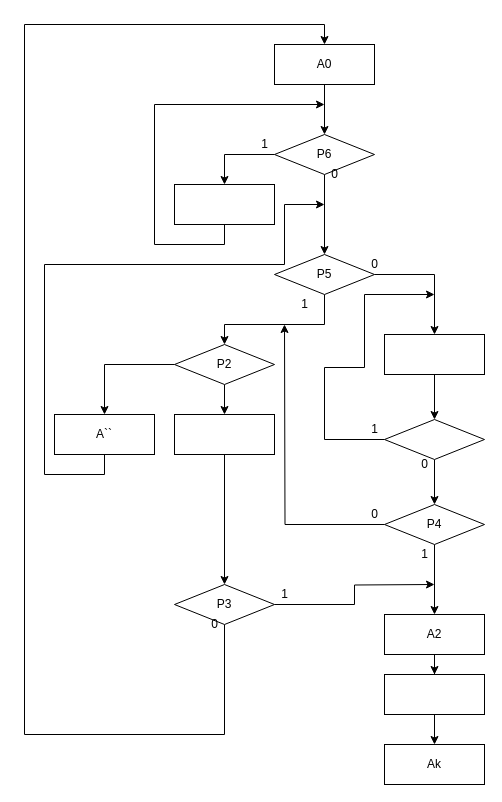
The diagram is 502 pixels wide and 802 high, and some of its shapes have lost their labels. Each missing label, with the centre of its shape:
"A1" belongs at point 224,434.
"A3" belongs at point 434,354.
"A4" belongs at point 434,694.
"A`" belongs at point 224,204.
"P1" belongs at point 434,439.
